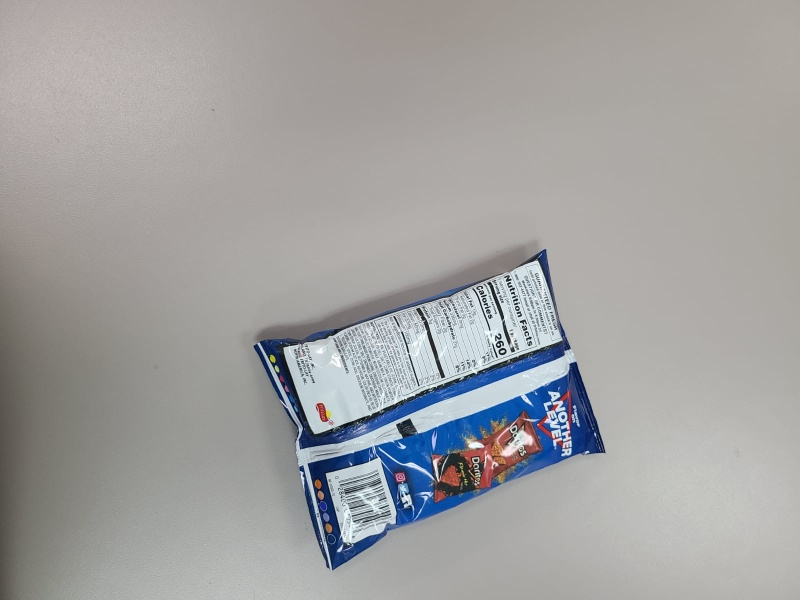doritos: (253, 244, 609, 572)
